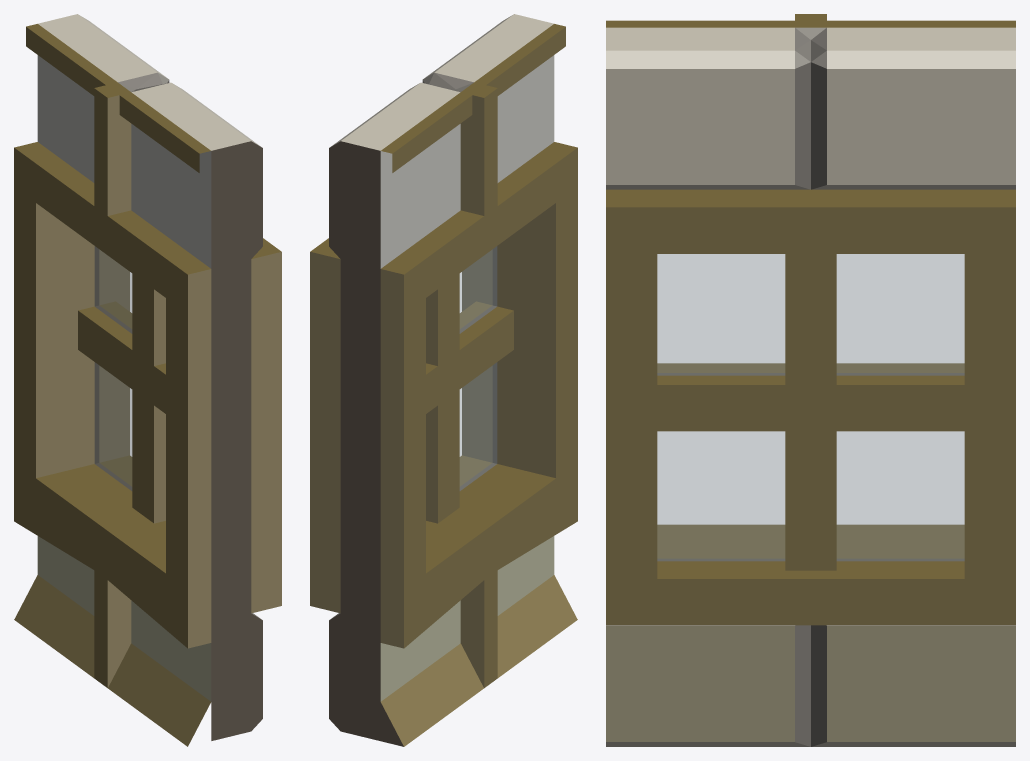
The picture shows the model from 3 angles, left to right: view 1: azimuth 30°, elevation 25°; view 2: azimuth 150°, elevation 25°; view 3: azimuth 270°, elevation 25°; orthographic projection. The views are drawn at different scales.
Bounding box in the file's own units: 40 × 240 × 128.
2 materials, 2 textured.
